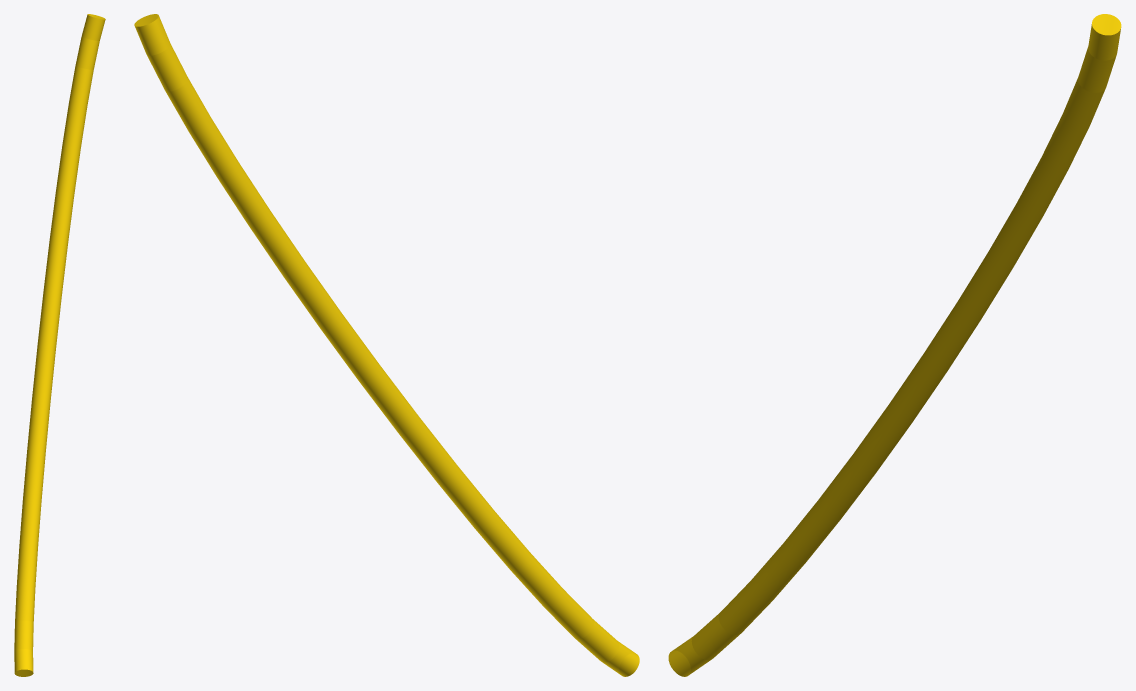
The model's file is Event_421364160_track_83.fbx.
3 views of the same model, side by side, from view 1: azimuth 30°, elevation 25°; view 2: azimuth 150°, elevation 25°; view 3: azimuth 270°, elevation 25° (orthographic). The views are drawn at different scales.
Parts seen in each view (by area): view 1: Model; view 2: Model; view 3: Model.
Boxes of the visible parts, box(x1,y1,x2,y2) form: Model: box(14, 14, 105, 676); Model: box(134, 14, 639, 676); Model: box(668, 14, 1121, 676).
Size of the model in its own units: 0.5453 by 1.21 by 0.6081.
